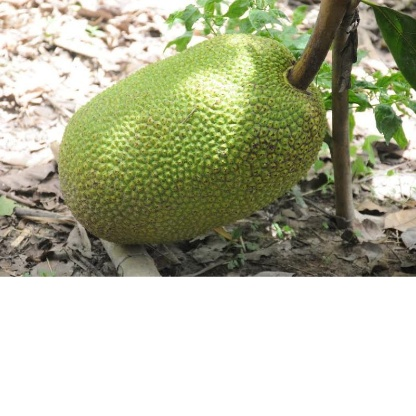mit: (53, 25, 325, 237)
